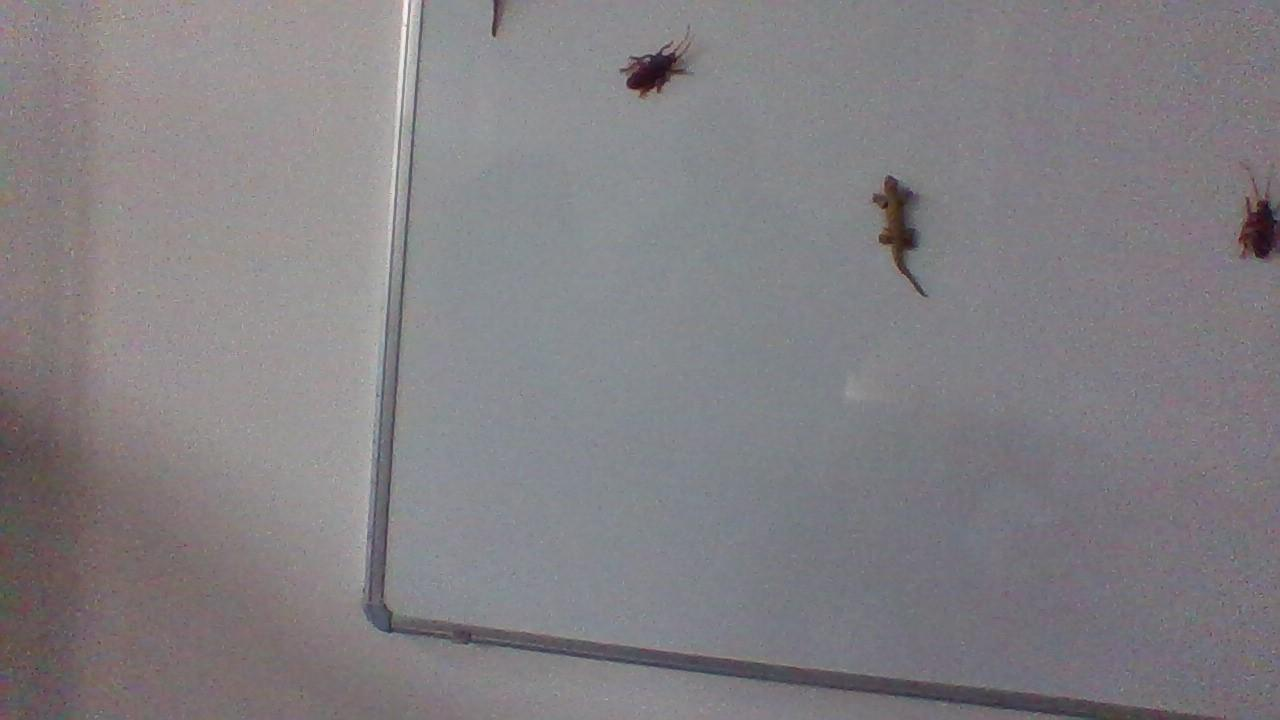cockroach: (617, 22, 706, 109), (1219, 159, 1280, 279)
lizard: (873, 173, 942, 310)
